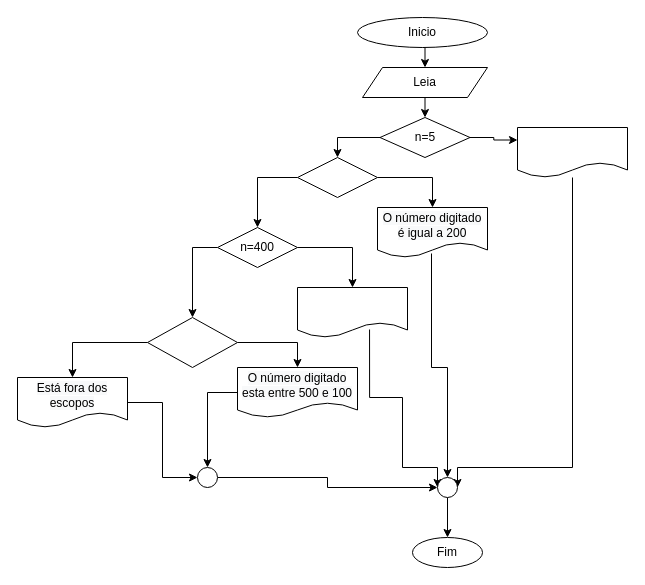
Image size: 645x585. Some labels were removed from this diagram. The centre of each missing label's shape, as x and y in pixels:
"n<500 e n>1000" belongs at pixel 192 342.
"n=200" belongs at pixel 337 177.
"O número digitado é igual a 400" belongs at pixel 352 312.
"O número digitado é igual a 5" belongs at pixel 572 152.
